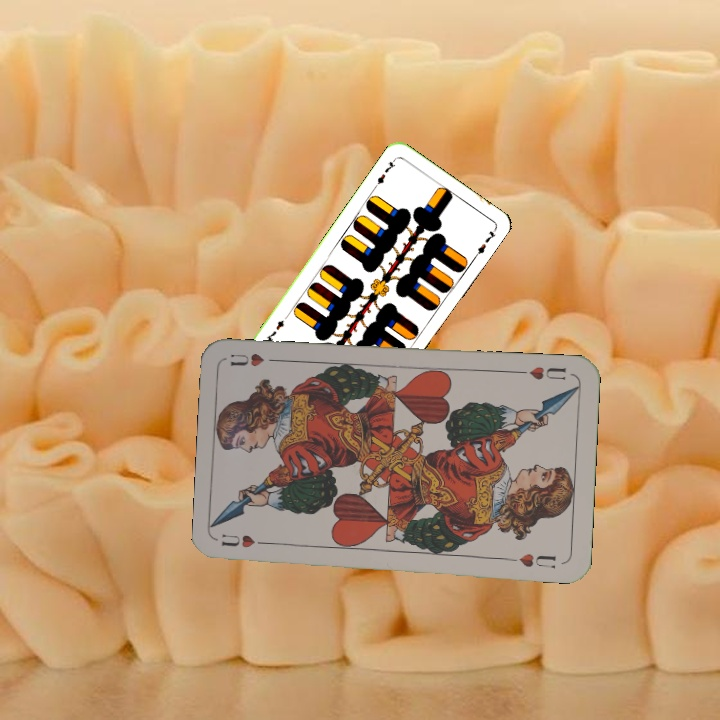E7: (371, 154, 399, 190)
HU: (515, 362, 568, 383), (217, 531, 275, 550)
